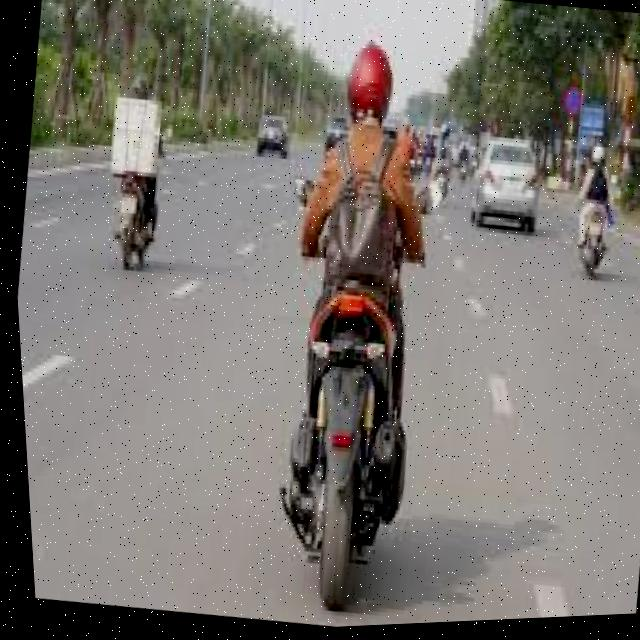car: (463, 125, 552, 239), (251, 108, 295, 163)
motorcycle: (237, 254, 460, 630), (94, 168, 166, 278), (566, 196, 623, 285)
plate: (113, 192, 143, 220)
